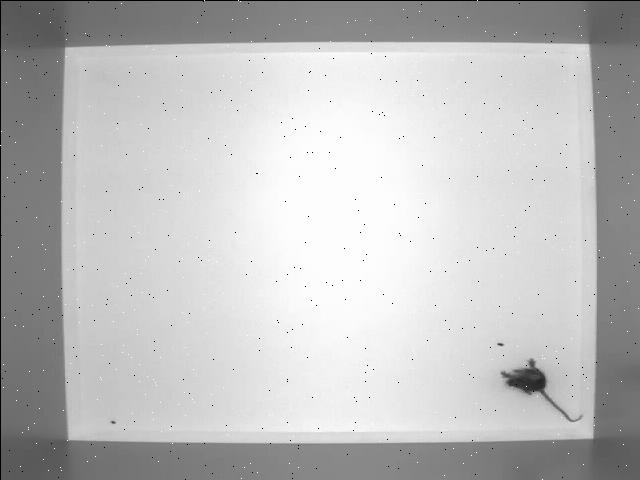Tikus: (499, 356, 584, 422)
